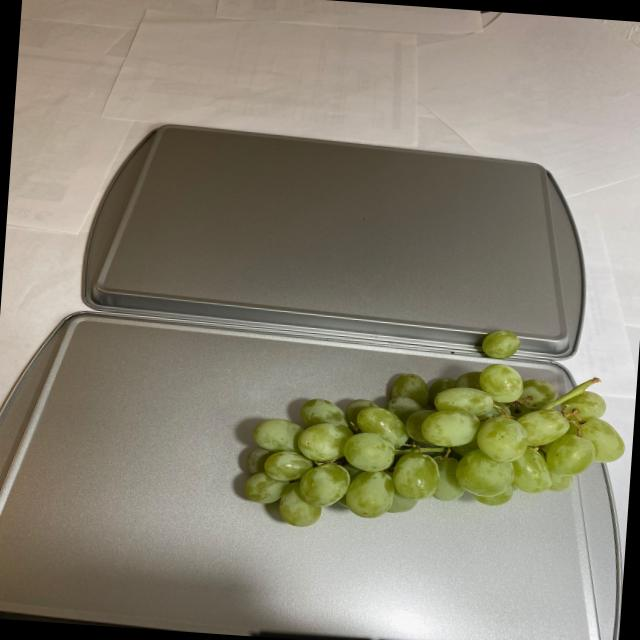grapes: (229, 310, 620, 540)
